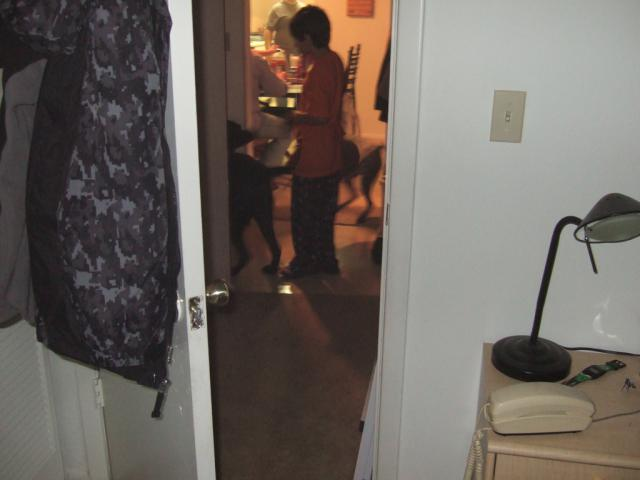Door-handle: (204, 278, 230, 307)
